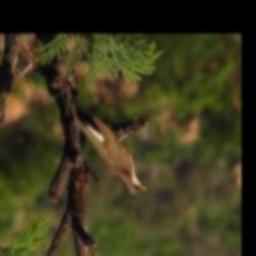Cuckoo: (75, 115, 147, 197)
